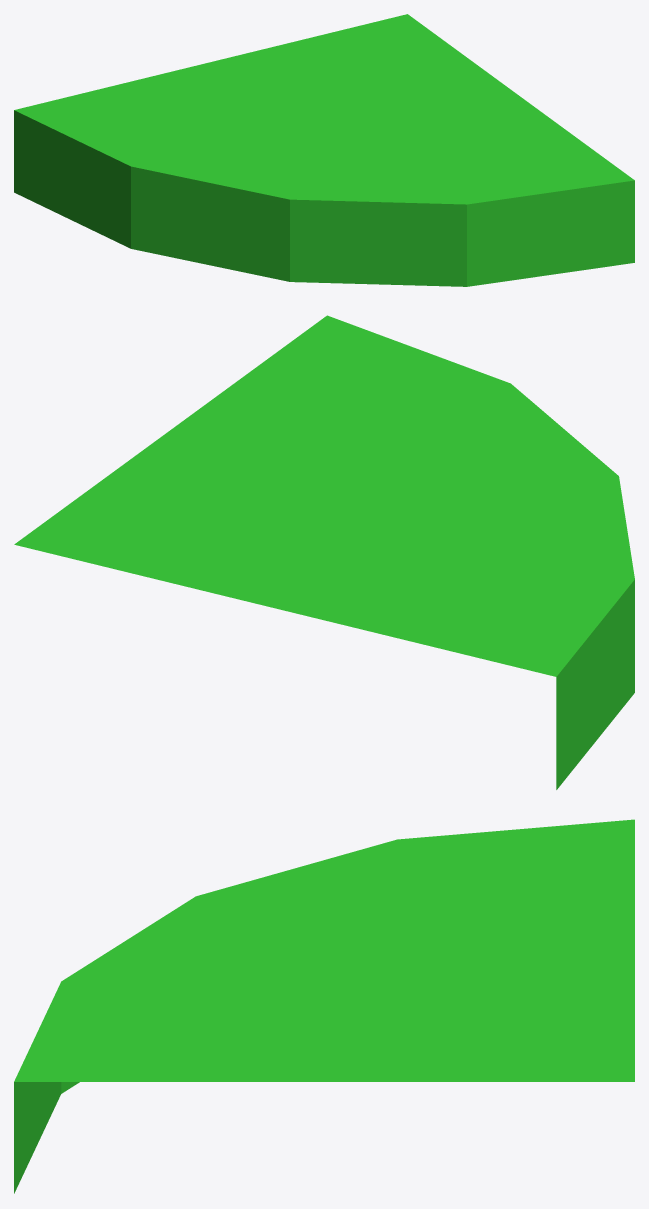
Rendered from DoorHealth25%.fbx.
The picture shows the model from 3 angles, top to bottom: view 1: azimuth 30°, elevation 25°; view 2: azimuth 150°, elevation 25°; view 3: azimuth 270°, elevation 25°; orthographic projection. The views are drawn at different scales.
Parts seen in each view (by area): view 1: DoorHealthIndicator25%; view 2: DoorHealthIndicator25%; view 3: DoorHealthIndicator25%.
Boxes of the visible parts, x1=… form: DoorHealthIndicator25%: x1=14, y1=14, x2=634, y2=286; DoorHealthIndicator25%: x1=14, y1=315, x2=634, y2=789; DoorHealthIndicator25%: x1=14, y1=819, x2=634, y2=1193.
Size of the model in its own units: 100 by 20 by 100.
